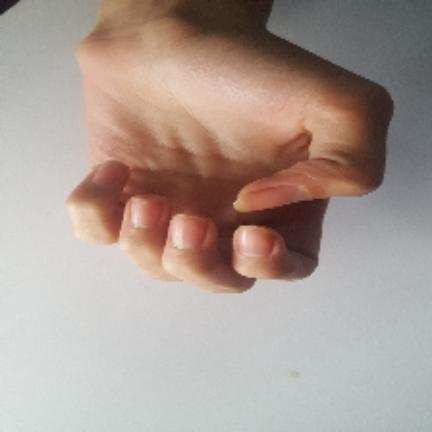Nail: (234, 185, 308, 212), (169, 214, 208, 249), (236, 226, 275, 257), (92, 161, 129, 187), (130, 199, 164, 227)
